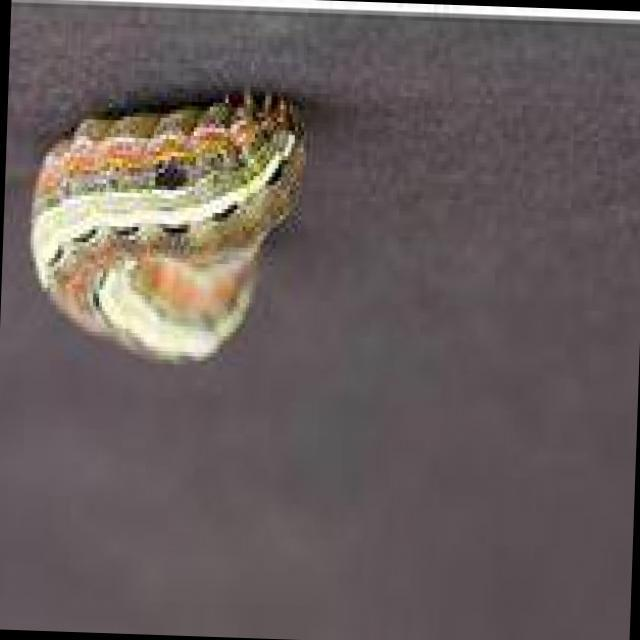Plaga: (12, 84, 322, 391)
